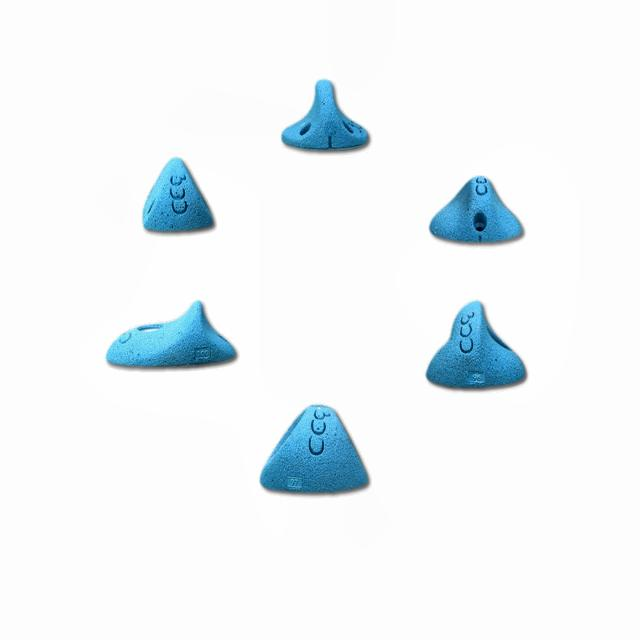Hold: (100, 294, 242, 372), (262, 399, 367, 494), (428, 296, 528, 393), (424, 170, 530, 254), (282, 79, 370, 151), (140, 151, 212, 234)
